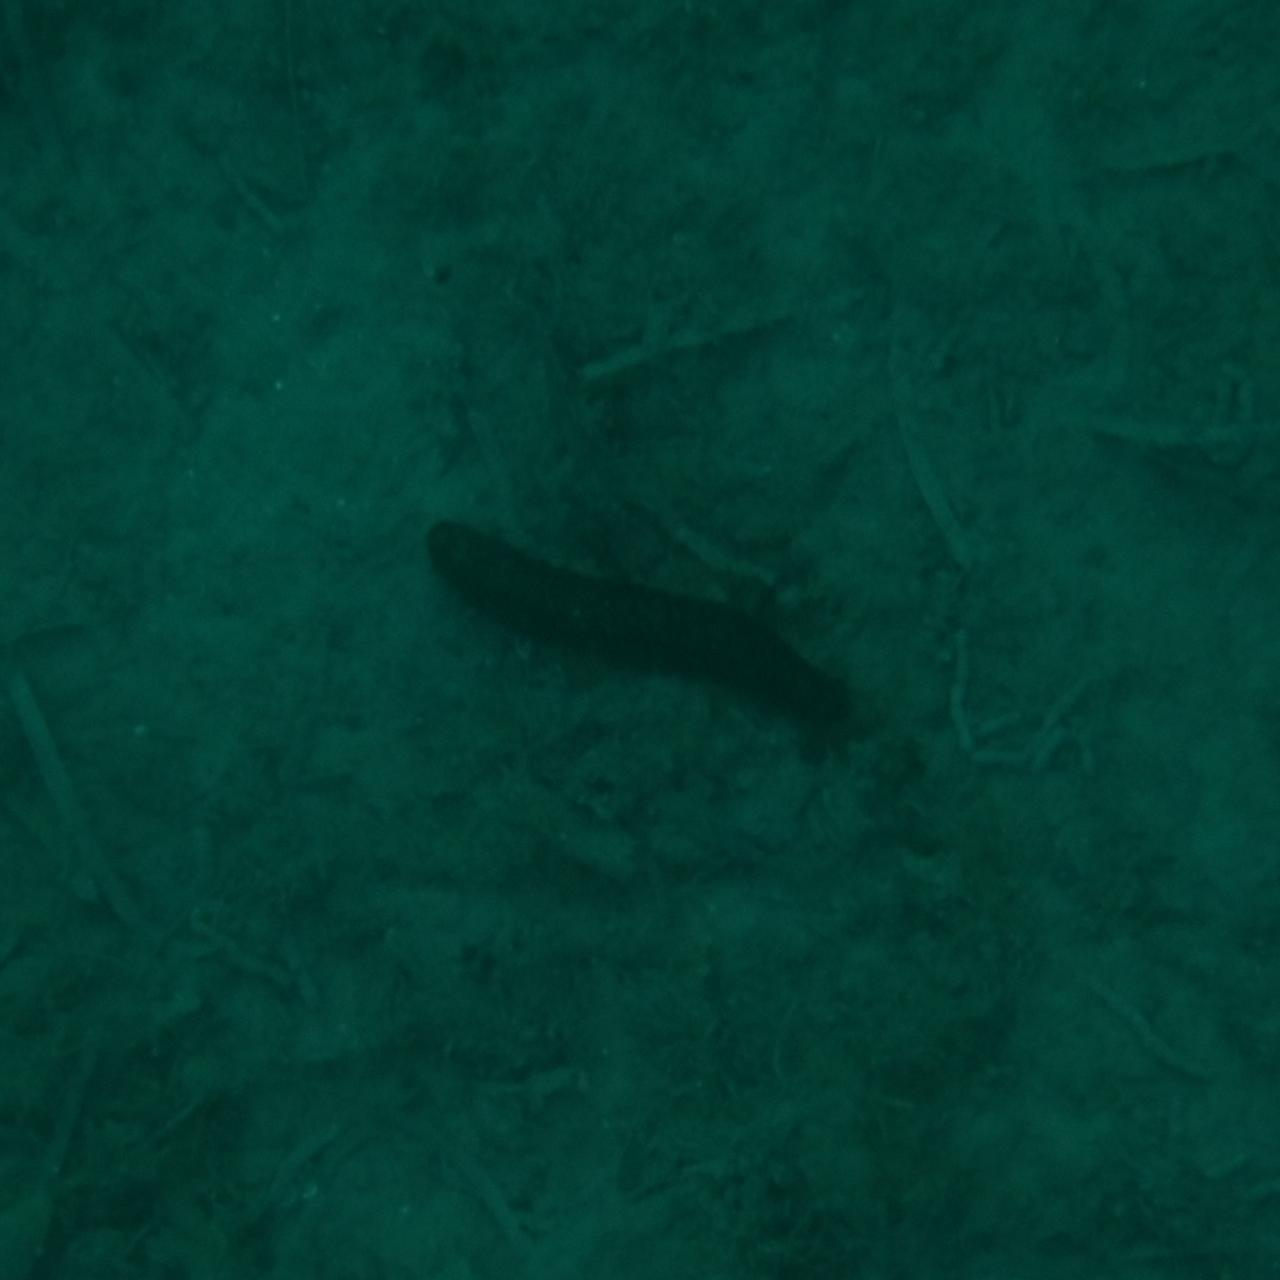Holothuria tubulosa: (416, 506, 864, 774)
